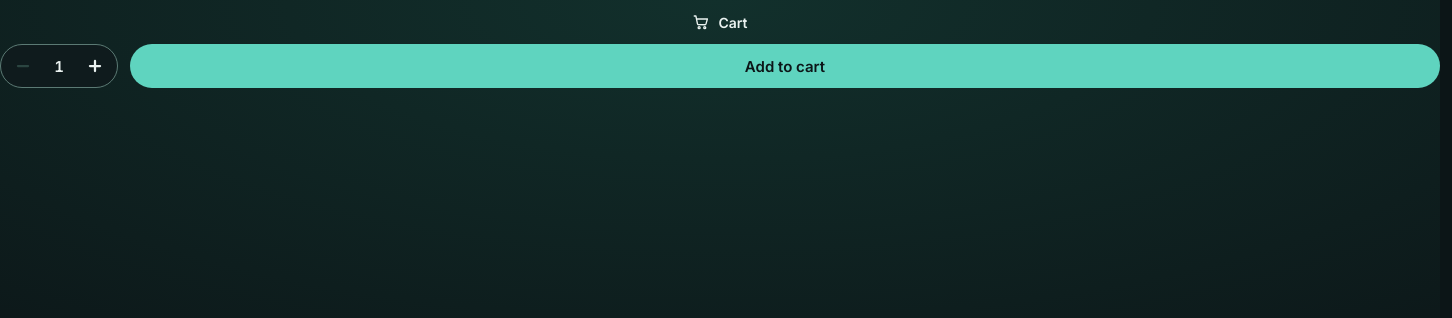
Test: AddToCart when signed in › explains a failure that is not from the server
Click the button "Add to cart".
click(785, 66)  # box [130, 44, 1440, 88]
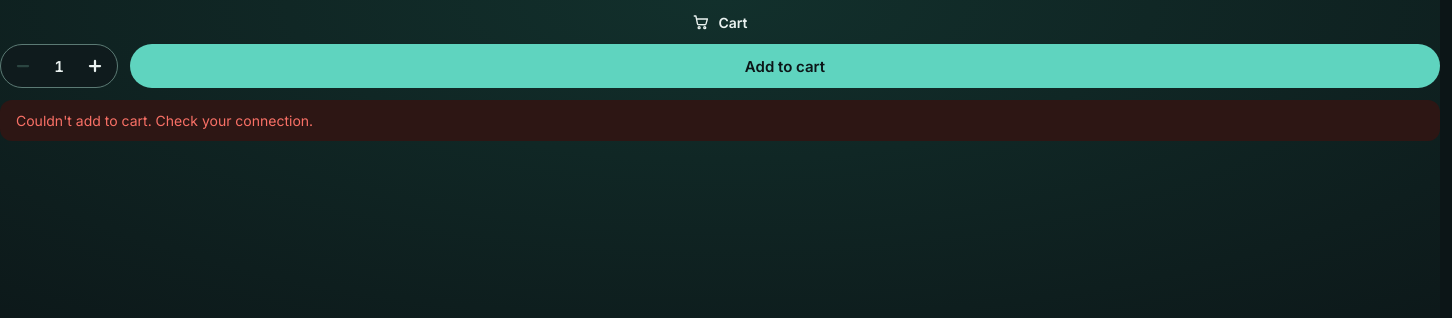
Expected: the message shows "Check your connection", [16, 112, 313, 129]
